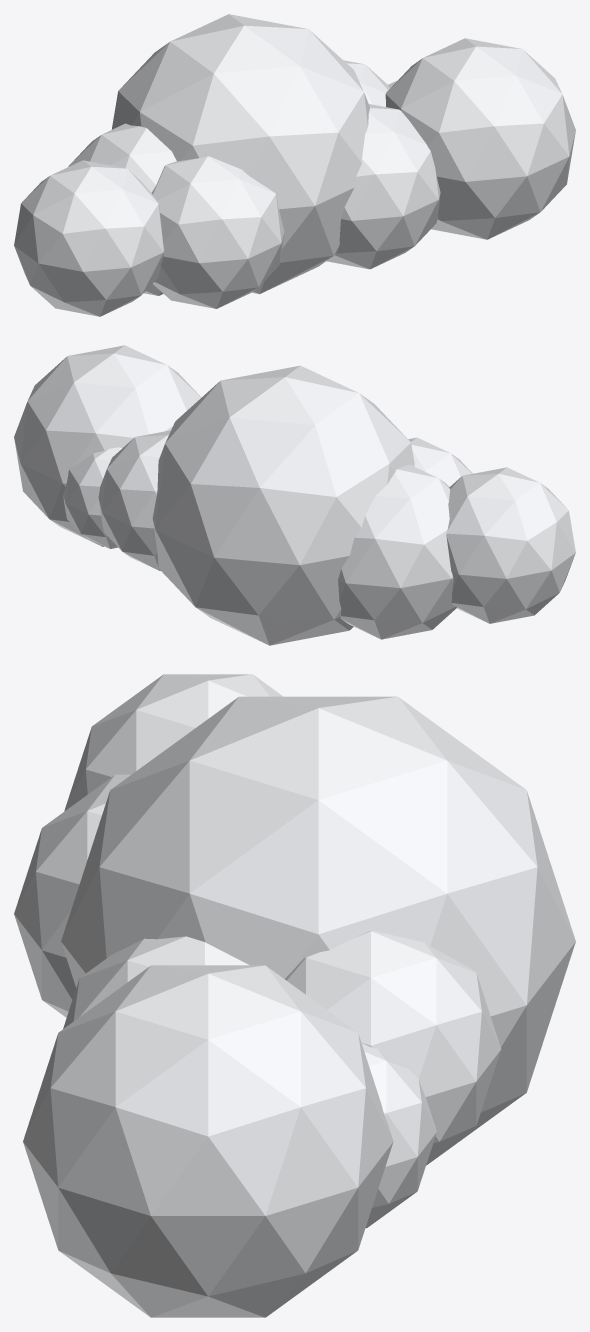
Rendered from Environment_Objects_Cloud_03.fbx.
The picture shows the model from 3 angles, top to bottom: view 1: azimuth 30°, elevation 25°; view 2: azimuth 150°, elevation 25°; view 3: azimuth 270°, elevation 25°; orthographic projection. The views are drawn at different scales.
Parts seen in each view (by area): view 1: Environment_Objects_Cloud_03; view 2: Environment_Objects_Cloud_03; view 3: Environment_Objects_Cloud_03.
Boxes of the visible parts, left/top/right/bottom form: Environment_Objects_Cloud_03: left=14, top=14, right=575, bottom=316; Environment_Objects_Cloud_03: left=14, top=345, right=575, bottom=645; Environment_Objects_Cloud_03: left=14, top=674, right=575, bottom=1317.
Bounding box in the file's own units: 1977 × 909 × 992.
